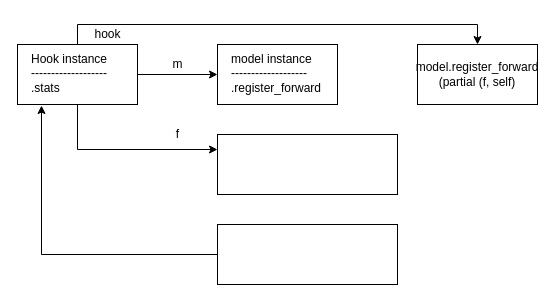
The diagram is 556 pixels wide and 302 high, and some of its shapes have lost their labels. Each missing label, with the centre of its shape:
"f (hook, mod, input, output)" goes at (x=307, y=164).
"partial ( f, self)" goes at (x=307, y=254).
